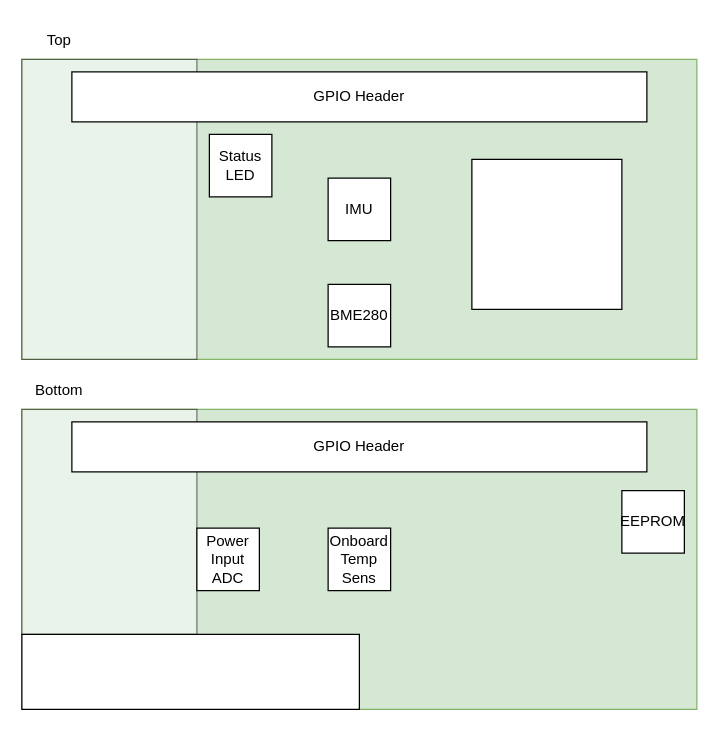
The diagram is 719 pixels wide and 731 high, and some of its shapes have lost their labels. Each missing label, with the centre of its shape:
External Interface Connections: the point at 190,671
Power Input: the point at 109,521
Power Input Power LED 5V Buck 3V3 Buck: the point at 109,208
SAM-M8Q GPS: the point at 546,233
